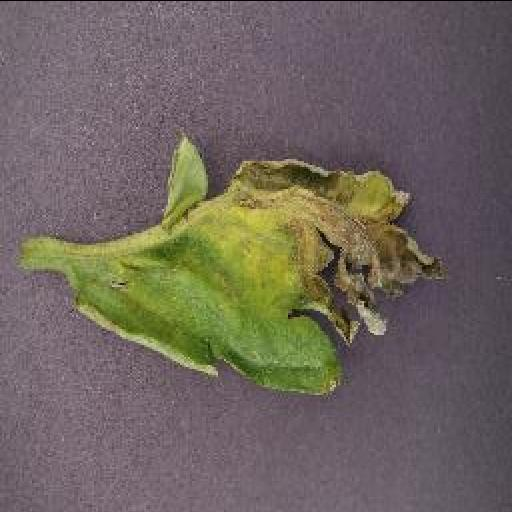disease_tomato: (62, 130, 446, 398)
